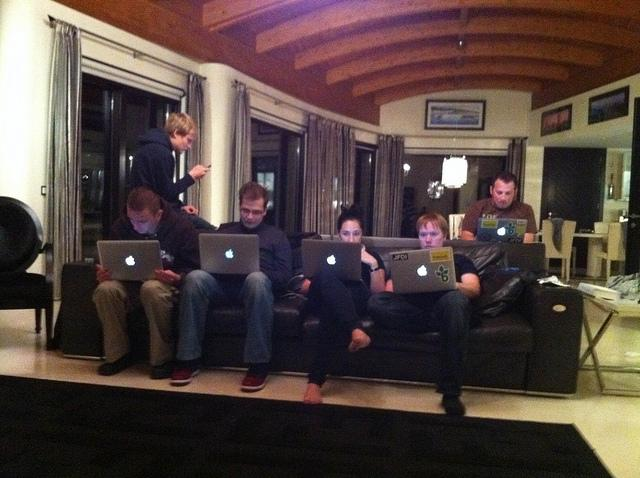apple: (126, 255, 136, 266), (418, 265, 428, 276), (327, 255, 336, 264), (497, 228, 505, 236), (226, 250, 233, 258)
